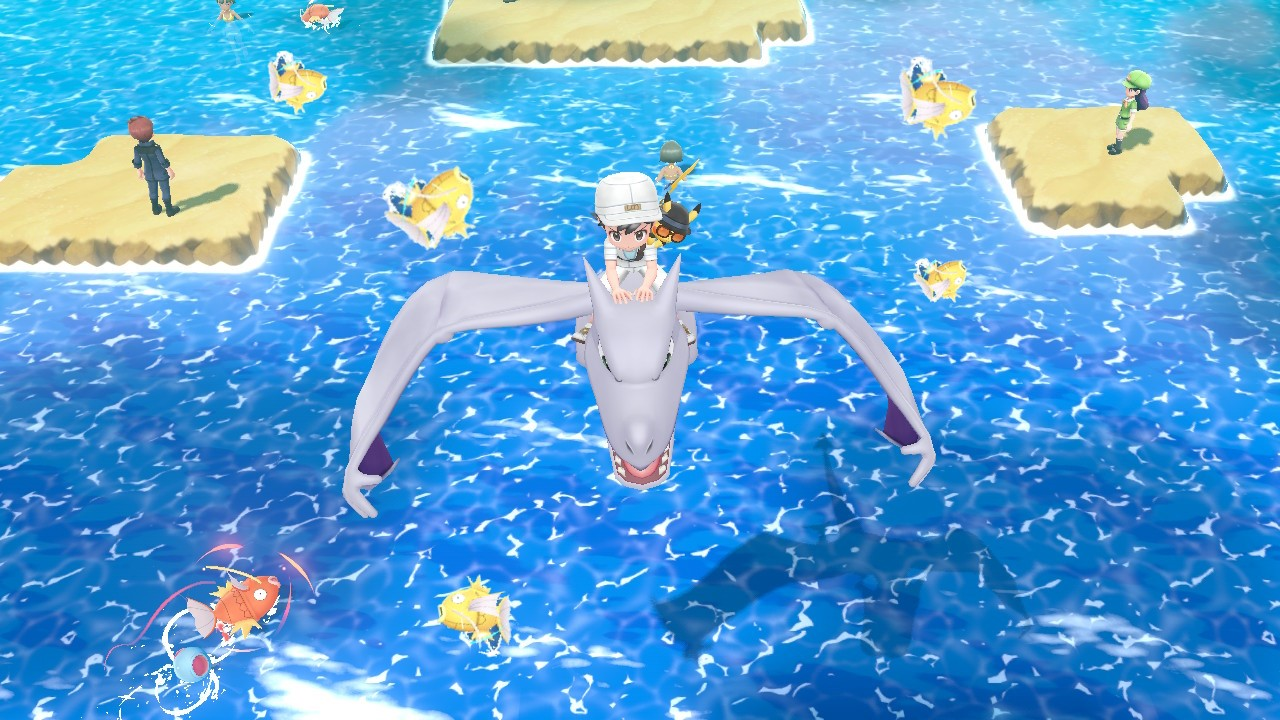Golden: (387, 162, 476, 252), (436, 572, 513, 648), (897, 68, 977, 136), (268, 55, 328, 114), (914, 257, 973, 304)
Red: (186, 573, 281, 648), (296, 1, 342, 32)
